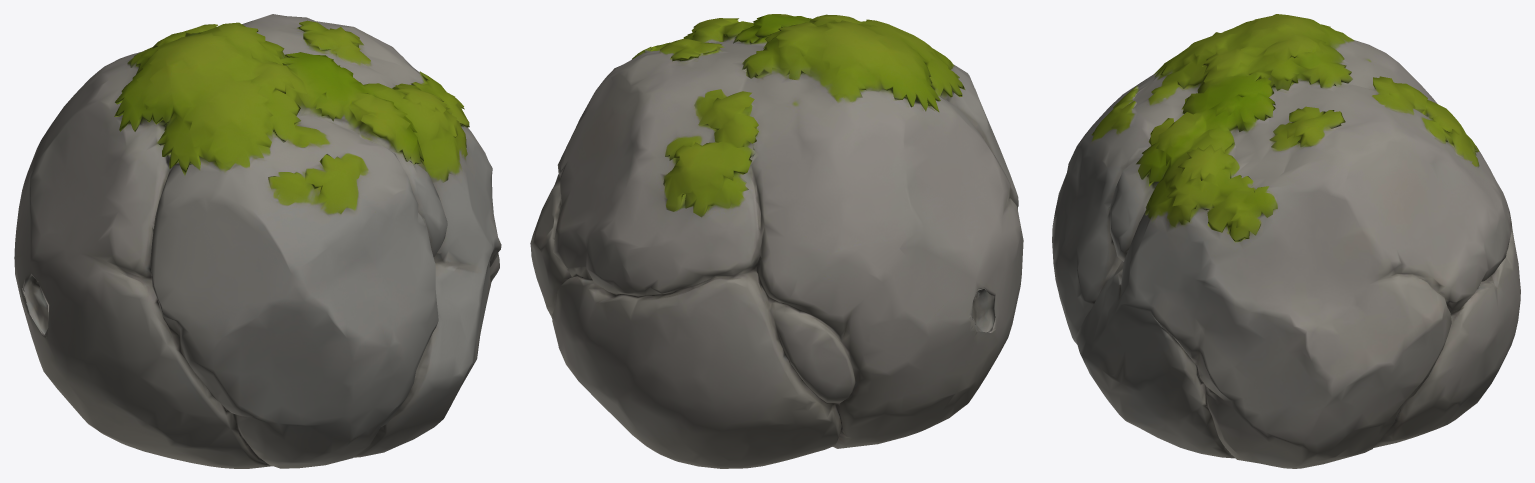
The model's file is boulder.glb.
The picture shows the model from 3 angles, left to right: view 1: azimuth 30°, elevation 25°; view 2: azimuth 150°, elevation 25°; view 3: azimuth 270°, elevation 25°; orthographic projection. The views are drawn at different scales.
Visible parts, largest first — view 1: tripo_node_a797112a-2a59-4272-8369-fadaecbbca04; view 2: tripo_node_a797112a-2a59-4272-8369-fadaecbbca04; view 3: tripo_node_a797112a-2a59-4272-8369-fadaecbbca04.
Boxes of the visible parts, left/top/right/bottom form: tripo_node_a797112a-2a59-4272-8369-fadaecbbca04: left=14, top=14, right=501, bottom=468; tripo_node_a797112a-2a59-4272-8369-fadaecbbca04: left=530, top=14, right=1023, bottom=468; tripo_node_a797112a-2a59-4272-8369-fadaecbbca04: left=1052, top=14, right=1520, bottom=468.
Bounding box in the file's own units: 0.9959 × 0.8732 × 1.
1 material, 1 textured.
